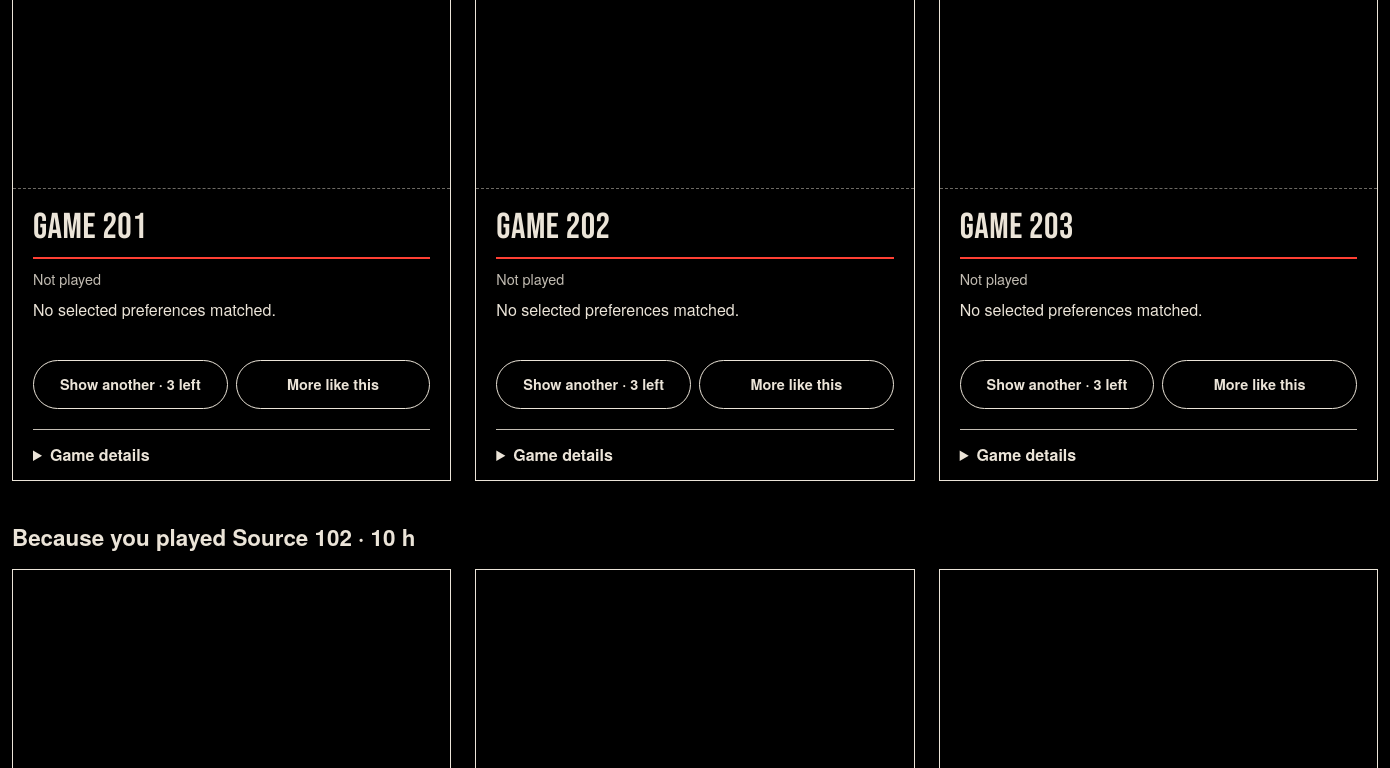
Test: AutomaticRecommendations › explains when More like this finds nothing new
(page scrolled)
Click the button with aria-label "More games like Game 201": (333, 384) left=236, top=360, right=430, bottom=409
(page scrolled)
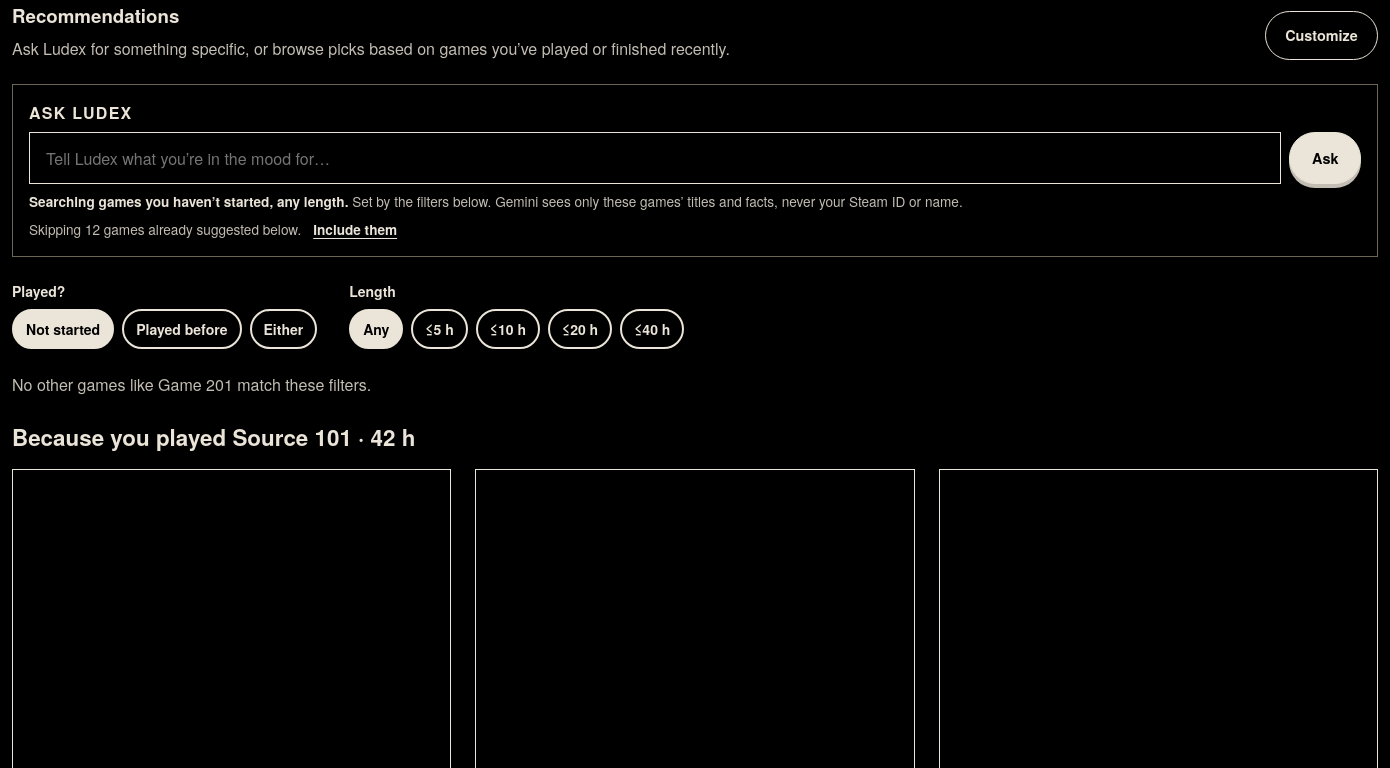
Expected: the text "No other games like Game 201 match these filters." is shown, left=12, top=373, right=371, bottom=396
